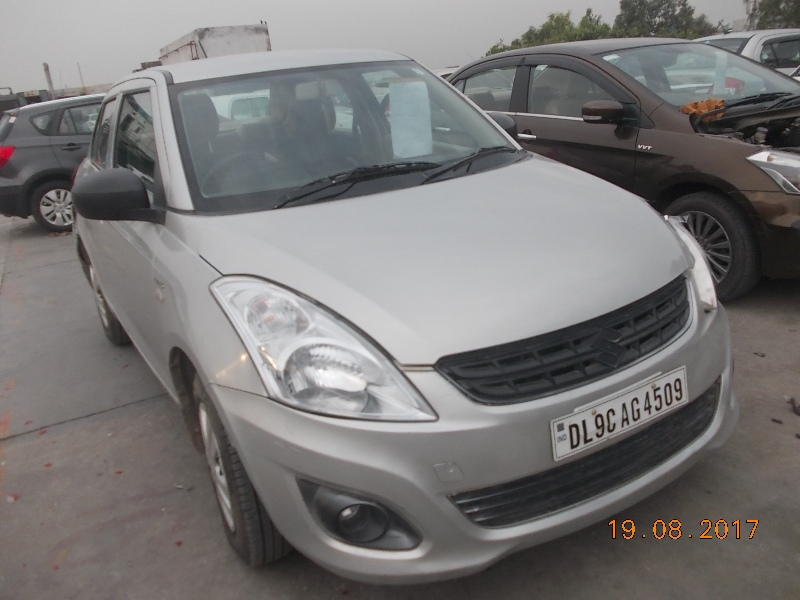Scratch_or_spot: (486, 343, 508, 372)
